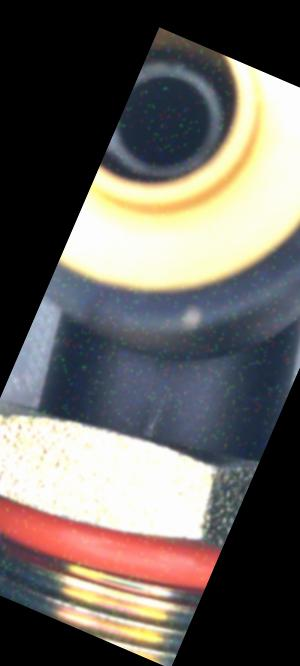joint line: (136, 355, 170, 409)
white mark: (139, 398, 169, 443)
